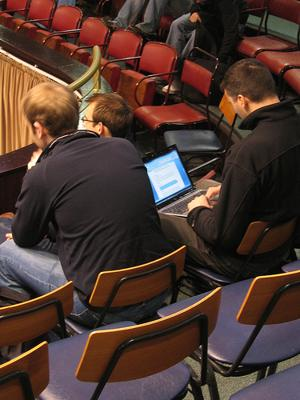person: (159, 58, 300, 277)
